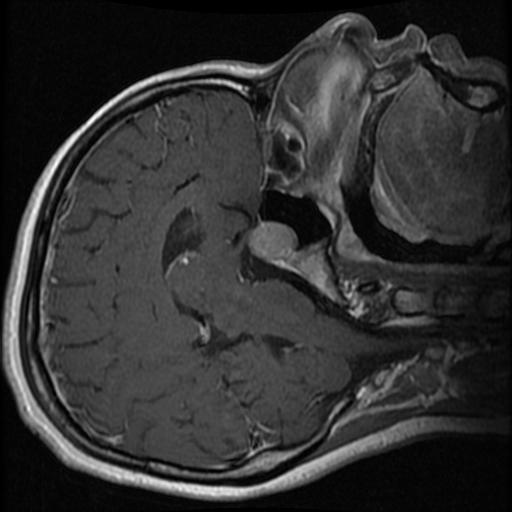pituitary tumour: (248, 222, 298, 261)
